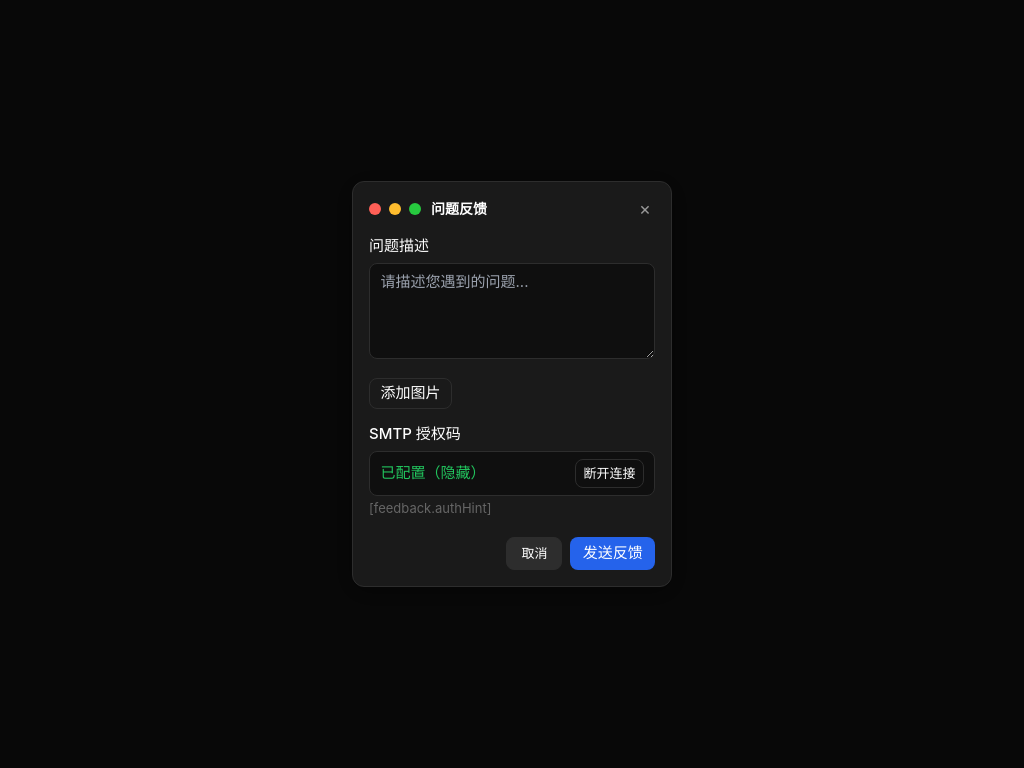
Test: FeedbackModal › 断开连接：渲染 mail.set({authCode:""}) → hasAuthCode=false → 显示授权码输入
This screenshot has width=1024, height=768.
Expected: the text "已配置（隐藏）" is shown, [380,462,486,484]
Click the button "断开连接".
click(610, 473)  # box [576,459,644,488]
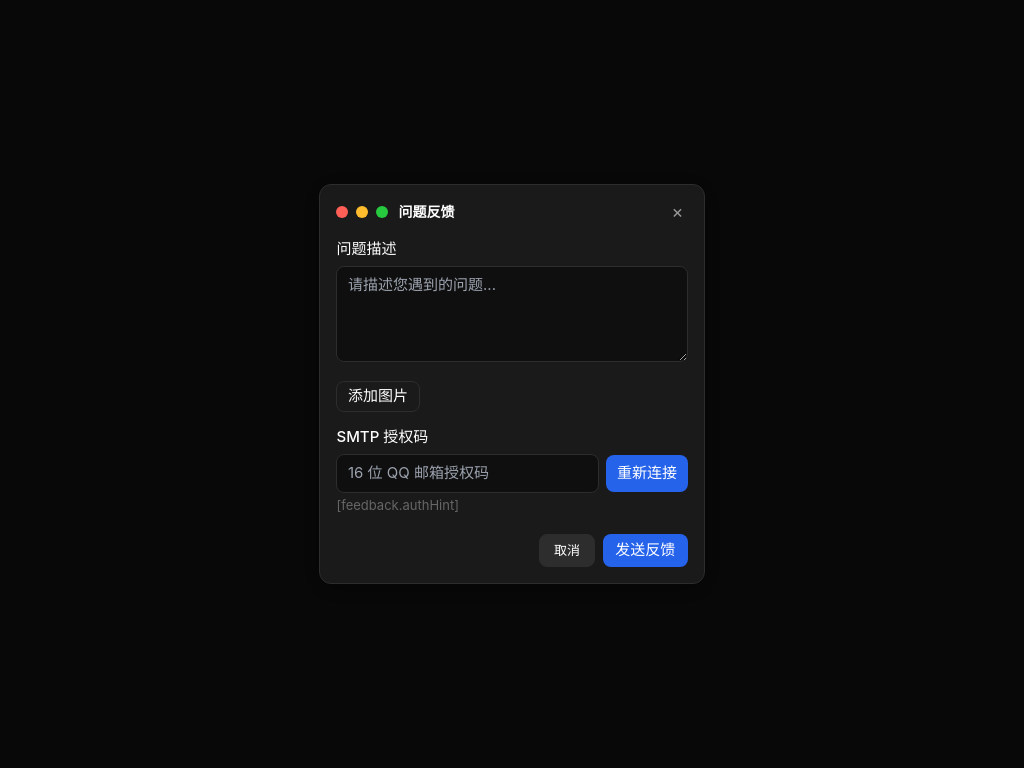
Now the password field with test id "feedback-auth-input" is shown, box [336,454,600,492]
